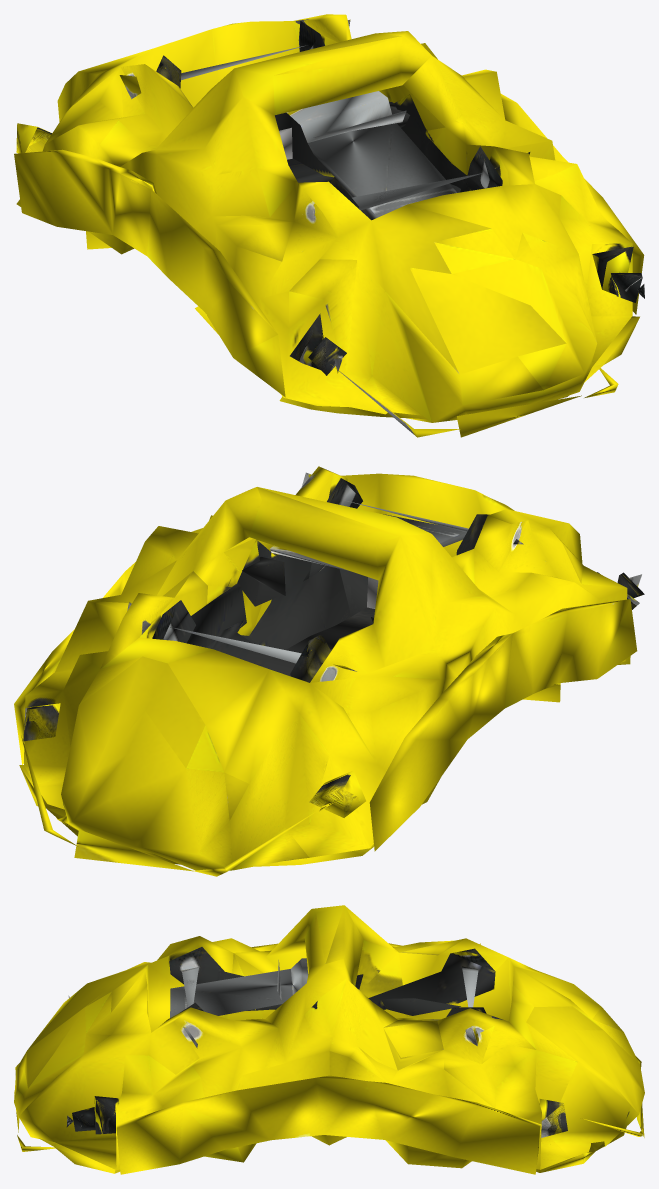
File: brake_caliper_yellow.obj
3 views of the same model, one above another, from view 1: azimuth 30°, elevation 25°; view 2: azimuth 150°, elevation 25°; view 3: azimuth 270°, elevation 25° (orthographic). The views are drawn at different scales.
Visible parts, largest first — view 1: part; view 2: part; view 3: part.
Boxes of the visible parts, bbox=[...] form: part: bbox=[14, 14, 644, 437]; part: bbox=[14, 466, 644, 876]; part: bbox=[14, 905, 644, 1174].
Bounding box in the file's own units: 0.1512 × 0.0883 × 0.2787.
